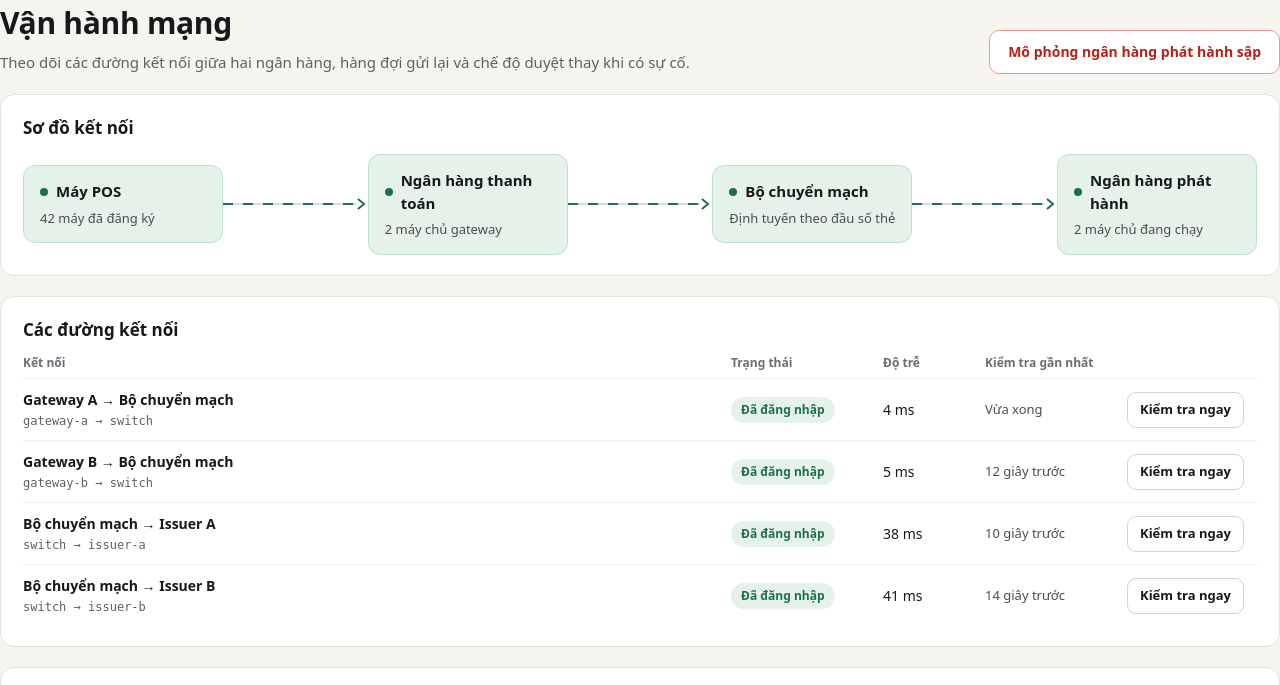
Test: NetworkScreen › MCN-804-AC2: simulating an issuer outage opens the circuit, fills SAF and breaks the last link
Click the button "Mô phỏng ngân hàng phát hành sập". click: [1135, 52]
box: [989, 30, 1279, 74]
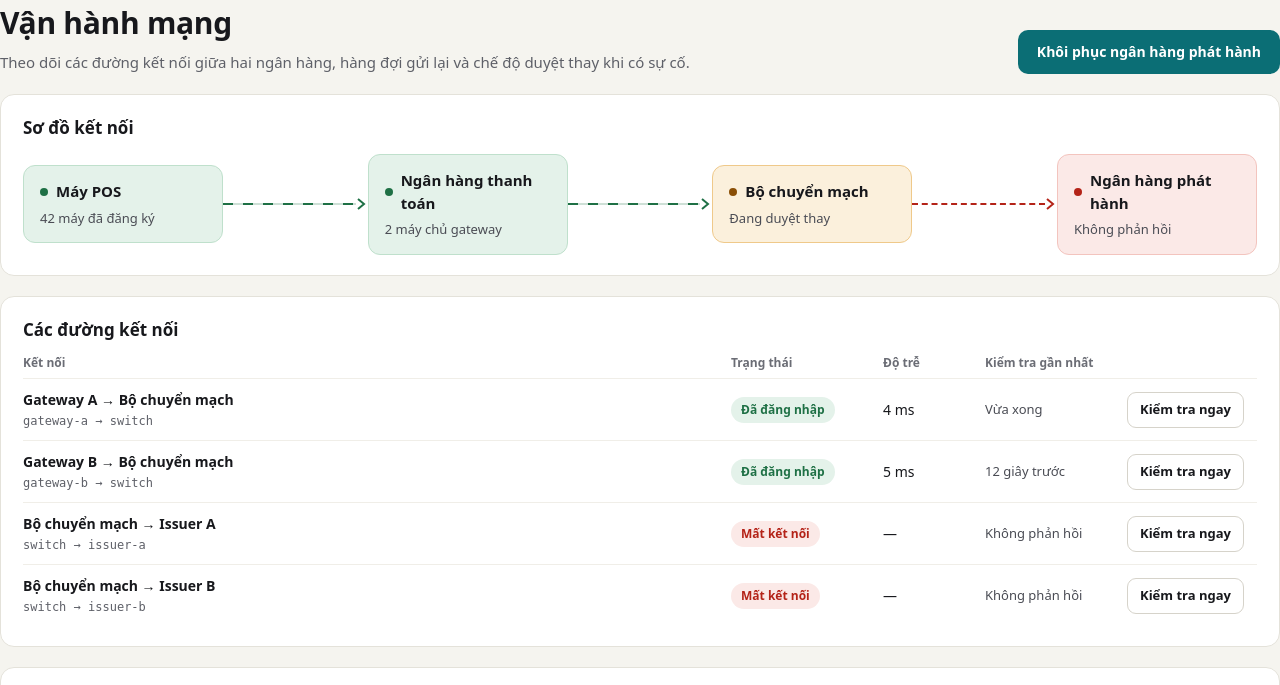
Expected: the text "Mất kết nối" is shown 2 times, [731, 520, 820, 546]; [731, 582, 820, 608]
Expected: the button "Khôi phục ngân hàng phát hành" is shown
Expected: the text "Đang duyệt thay" is shown, [729, 209, 830, 227]
Click the button "Khôi phục ngân hàng phát hành". click: [1149, 52]
box: [1018, 30, 1279, 74]
(page scrolled)
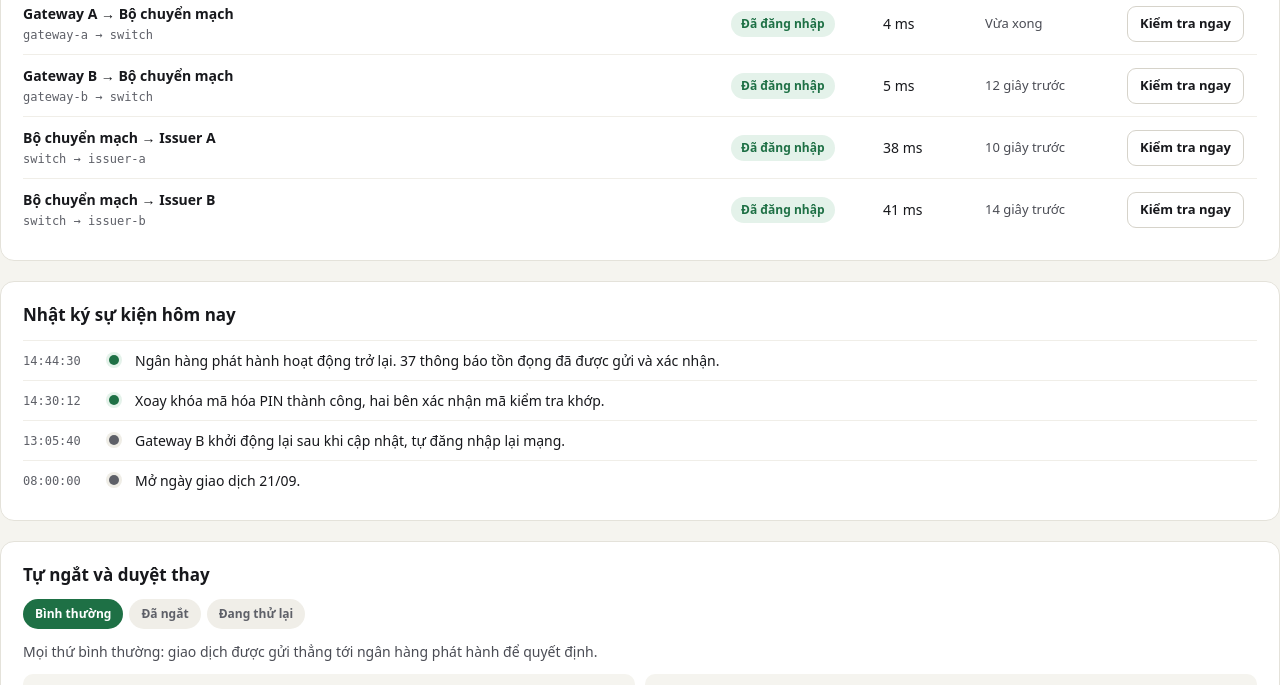
Expected: the text "Ngân hàng phát hành hoạt động trở lại" is shown, [135, 350, 720, 370]
